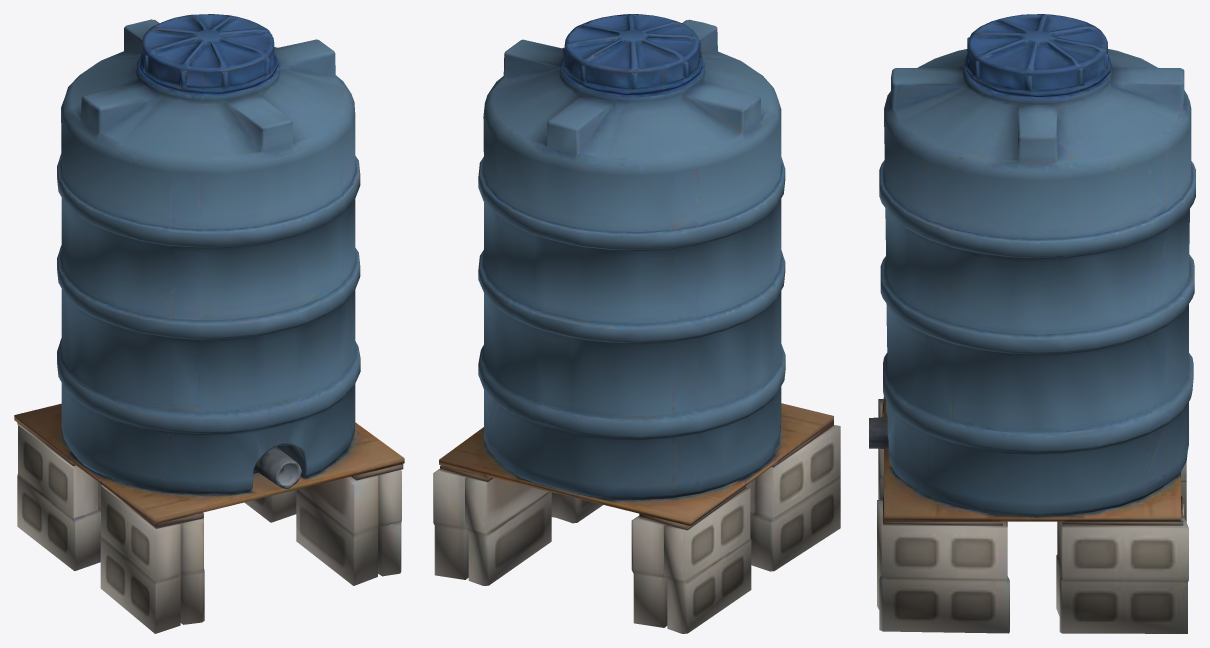
Rendered from caixa_dagua_azul.glb.
The picture shows the model from 3 angles, left to right: view 1: azimuth 30°, elevation 25°; view 2: azimuth 150°, elevation 25°; view 3: azimuth 270°, elevation 25°; orthographic projection. The views are drawn at different scales.
Visible parts, largest first — view 1: Blue Ribbed Water Tank; view 2: Blue Ribbed Water Tank; view 3: Blue Ribbed Water Tank.
Boxes of the visible parts, x1=… form: Blue Ribbed Water Tank: x1=14, y1=14, x2=404, y2=633; Blue Ribbed Water Tank: x1=433, y1=14, x2=840, y2=633; Blue Ribbed Water Tank: x1=869, y1=14, x2=1195, y2=633.
Bounding box in the file's own units: 0.5371 × 0.998 × 0.5527.
Materials: 1 (1 with a texture image).
